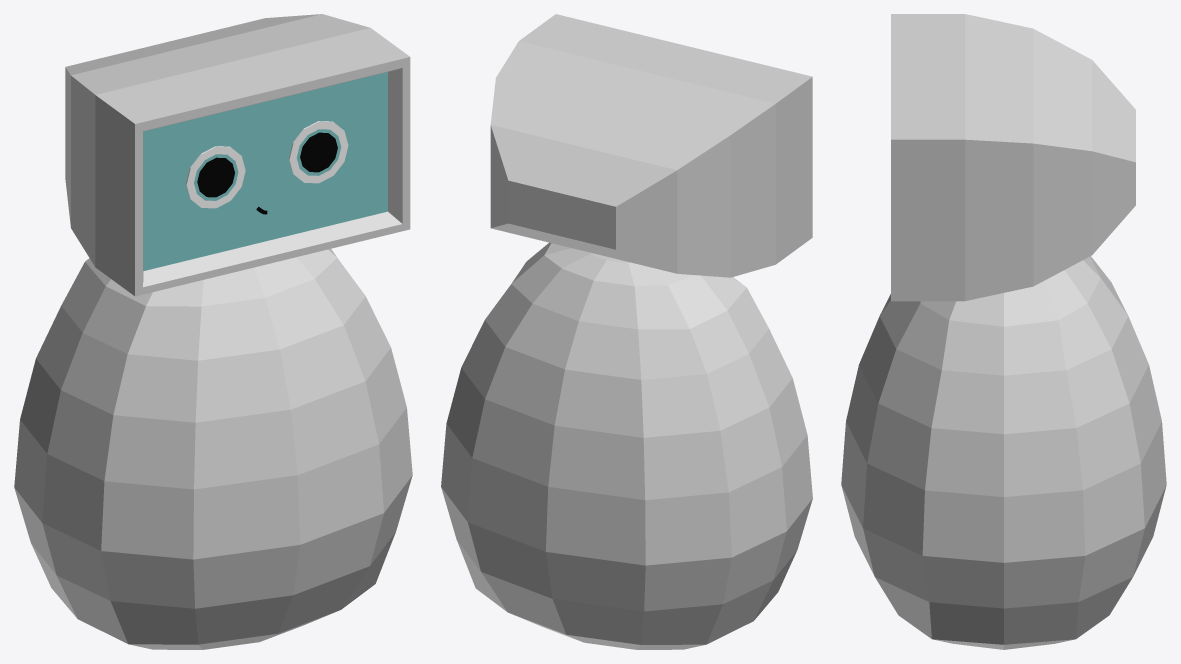
File: emarV-X1.glb
3 renders of one model, left to right at view 1: azimuth 30°, elevation 25°; view 2: azimuth 150°, elevation 25°; view 3: azimuth 270°, elevation 25°, orthographic. The views are drawn at different scales.
Parts seen in each view (by area): view 1: Body, Head, Right Eye, Left Eye; view 2: Body, Head; view 3: Body, Head.
Boxes of the visible parts, x1=… form: Body: x1=14, y1=249, x2=412, y2=649; Head: x1=65, y1=14, x2=410, y2=296; Right Eye: x1=186, y1=146, x2=245, y2=208; Left Eye: x1=289, y1=121, x2=348, y2=183; Body: x1=441, y1=242, x2=812, y2=649; Head: x1=490, y1=14, x2=812, y2=277; Body: x1=841, y1=256, x2=1166, y2=649; Head: x1=891, y1=14, x2=1135, y2=301.
Size of the model in its own units: 0.5224 by 0.8346 by 0.4595.
